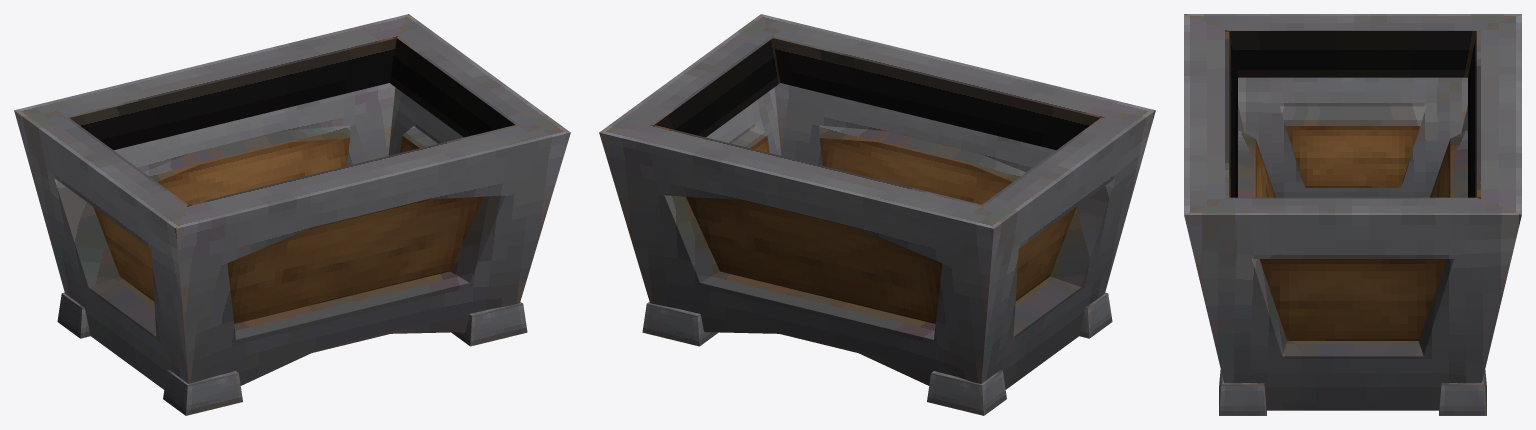
The model's file is Chest.fbx.
3 renders of one model, left to right at view 1: azimuth 30°, elevation 25°; view 2: azimuth 150°, elevation 25°; view 3: azimuth 270°, elevation 25°, orthographic. The views are drawn at different scales.
Visible parts, largest first — view 1: Chest; view 2: Chest; view 3: Chest.
Part boxes in pixels (left/top/right/bottom): Chest: left=14, top=14, right=570, bottom=415; Chest: left=599, top=14, right=1155, bottom=415; Chest: left=1184, top=14, right=1521, bottom=415.
Bounding box in the file's own units: 105 × 52.31 × 74.64.
